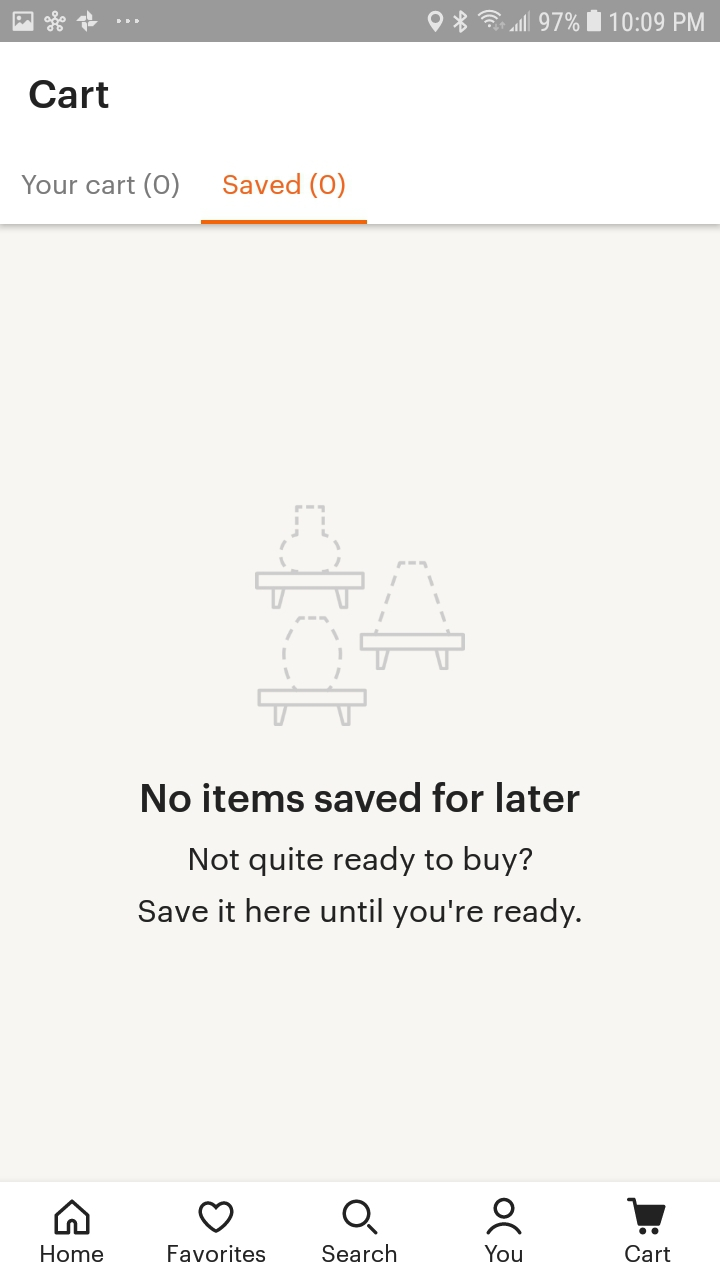Icon: (627, 1197, 666, 1235), (486, 1197, 522, 1236), (54, 1199, 91, 1236), (342, 1199, 378, 1235), (198, 1200, 235, 1233)
Image: (256, 505, 467, 726)
Text: (139, 847, 581, 928), (142, 781, 581, 813), (23, 174, 180, 199), (223, 173, 346, 200), (30, 80, 110, 110), (168, 1244, 266, 1263), (322, 1244, 397, 1263), (41, 1245, 104, 1263), (625, 1245, 670, 1262), (484, 1245, 523, 1263)
UpperTaskBar: (1, 1, 720, 43)
